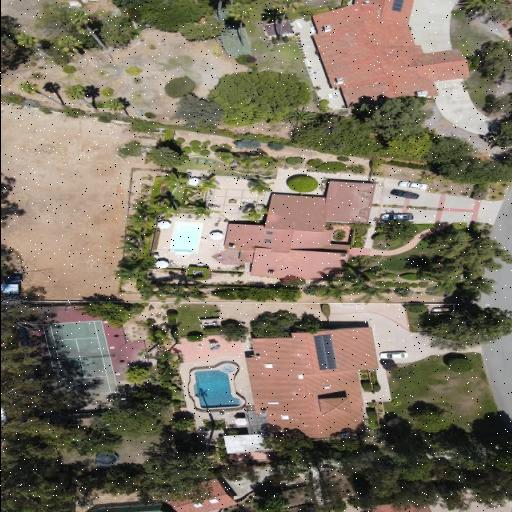solar-panel: (312, 335, 337, 370), (391, 0, 403, 12)
